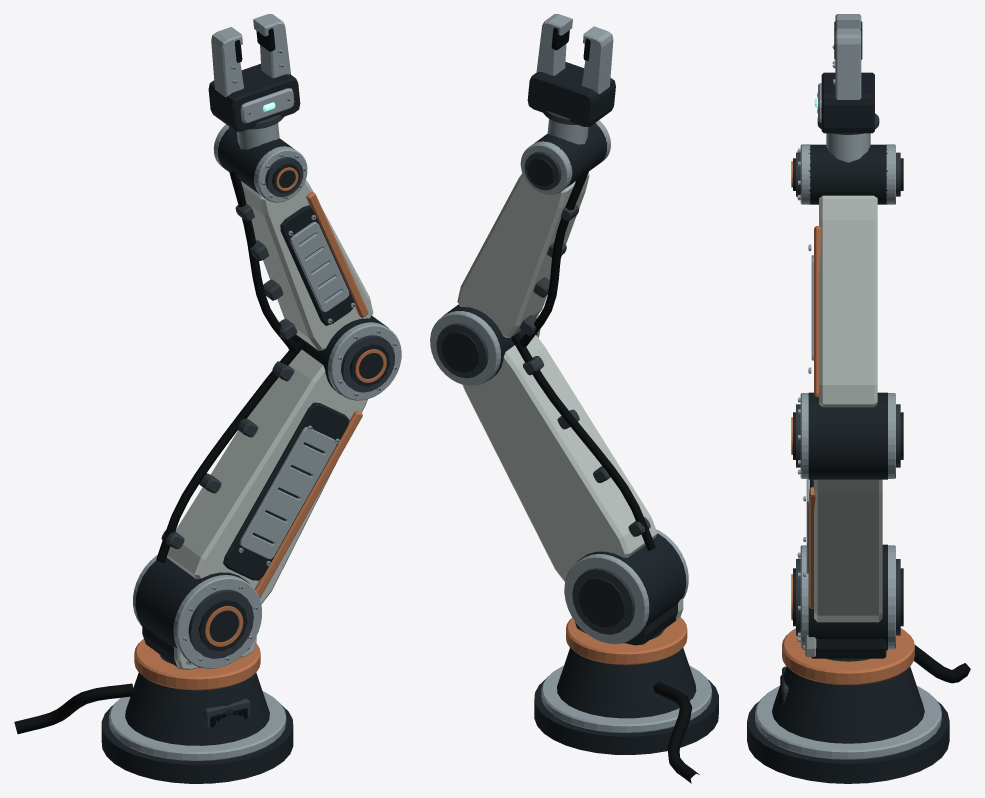
File: robot-arm-reduced.glb
3 renders of one model, left to right at view 1: azimuth 30°, elevation 25°; view 2: azimuth 150°, elevation 25°; view 3: azimuth 270°, elevation 25°, orthographic. The views are drawn at different scales.
Parts seen in each view (by area): view 1: robot_shoulder_Powder-coated_cast_aluminum, robot_base_Anodized_graphite_chassis, robot_shoulder_Anodized_graphite_chassis, robot_shoulder_Satin_machined_titanium, robot_elbow_Powder-coated_cast_aluminum, robot_elbow_Satin_machined_titanium, robot_wrist_Anodized_graphite_chassis, robot_base_Satin_machined_titanium, robot_elbow_Anodized_graphite_chassis, robot_wrist_Satin_machined_titanium, robot_waist_Satin_copper_busbar, robot_shoulder_Black_oxide_steel (+9 smaller); view 2: robot_shoulder_Powder-coated_cast_aluminum, robot_base_Anodized_graphite_chassis, robot_elbow_Powder-coated_cast_aluminum, robot_wrist_Anodized_graphite_chassis, robot_shoulder_Anodized_graphite_chassis, robot_base_Satin_machined_titanium, robot_shoulder_Satin_machined_titanium, robot_waist_Satin_copper_busbar, robot_shoulder_Black_oxide_steel, robot_shoulder_Elastomer_cable_and_gasket, robot_elbow_Satin_machined_titanium, robot_wrist_Satin_machined_titanium (+8 smaller); view 3: robot_base_Anodized_graphite_chassis, robot_elbow_Powder-coated_cast_aluminum, robot_shoulder_Powder-coated_cast_aluminum, robot_elbow_Anodized_graphite_chassis, robot_wrist_Anodized_graphite_chassis, robot_base_Satin_machined_titanium, robot_waist_Satin_copper_busbar, robot_wrist_Satin_machined_titanium, robot_shoulder_Anodized_graphite_chassis, robot_shoulder_Satin_machined_titanium, gripper_right_Satin_machined_titanium, robot_elbow_Satin_machined_titanium (+8 smaller).
Boxes of the visible parts, bbox=[...] form: robot_shoulder_Powder-coated_cast_aluminum: bbox=[167, 349, 367, 604]; robot_base_Anodized_graphite_chassis: bbox=[101, 655, 293, 783]; robot_shoulder_Anodized_graphite_chassis: bbox=[135, 402, 349, 651]; robot_shoulder_Satin_machined_titanium: bbox=[133, 425, 340, 668]; robot_elbow_Powder-coated_cast_aluminum: bbox=[241, 180, 373, 350]; robot_elbow_Satin_machined_titanium: bbox=[288, 215, 401, 400]; robot_wrist_Anodized_graphite_chassis: bbox=[208, 63, 300, 194]; robot_base_Satin_machined_titanium: bbox=[109, 691, 286, 760]; robot_elbow_Anodized_graphite_chassis: bbox=[280, 205, 389, 394]; robot_wrist_Satin_machined_titanium: bbox=[213, 88, 307, 202]; robot_waist_Satin_copper_busbar: bbox=[134, 639, 260, 690]; robot_shoulder_Black_oxide_steel: bbox=[161, 361, 294, 658]; robot_shoulder_Powder-coated_cast_aluminum: bbox=[462, 335, 657, 582]; robot_base_Anodized_graphite_chassis: bbox=[534, 631, 718, 754]; robot_elbow_Powder-coated_cast_aluminum: bbox=[457, 173, 589, 337]; robot_wrist_Anodized_graphite_chassis: bbox=[527, 62, 615, 187]; robot_shoulder_Anodized_graphite_chassis: bbox=[576, 533, 686, 639]; robot_base_Satin_machined_titanium: bbox=[541, 665, 711, 732]; robot_shoulder_Satin_machined_titanium: bbox=[564, 529, 688, 644]; robot_waist_Satin_copper_busbar: bbox=[566, 617, 687, 664]; robot_shoulder_Black_oxide_steel: bbox=[523, 356, 650, 634]; robot_shoulder_Elastomer_cable_and_gasket: bbox=[511, 332, 655, 550]; robot_elbow_Satin_machined_titanium: bbox=[430, 311, 540, 385]; robot_wrist_Satin_machined_titanium: bbox=[520, 119, 610, 195]; robot_base_Anodized_graphite_chassis: bbox=[747, 650, 949, 783]; robot_elbow_Powder-coated_cast_aluminum: bbox=[819, 195, 877, 407]; robot_shoulder_Powder-coated_cast_aluminum: bbox=[814, 479, 882, 622]; robot_elbow_Anodized_graphite_chassis: bbox=[793, 392, 903, 479]; robot_wrist_Anodized_graphite_chassis: bbox=[793, 72, 903, 204]; robot_base_Satin_machined_titanium: bbox=[755, 686, 941, 759]; robot_waist_Satin_copper_busbar: bbox=[782, 628, 914, 685]; robot_wrist_Satin_machined_titanium: bbox=[798, 83, 895, 204]; robot_shoulder_Anodized_graphite_chassis: bbox=[793, 479, 903, 649]; robot_shoulder_Satin_machined_titanium: bbox=[798, 479, 895, 649]; gripper_right_Satin_machined_titanium: bbox=[833, 28, 861, 99]; robot_elbow_Satin_machined_titanium: bbox=[798, 244, 895, 478].
Bounding box in the file's own units: 1.62 × 3.51 × 0.9547.
